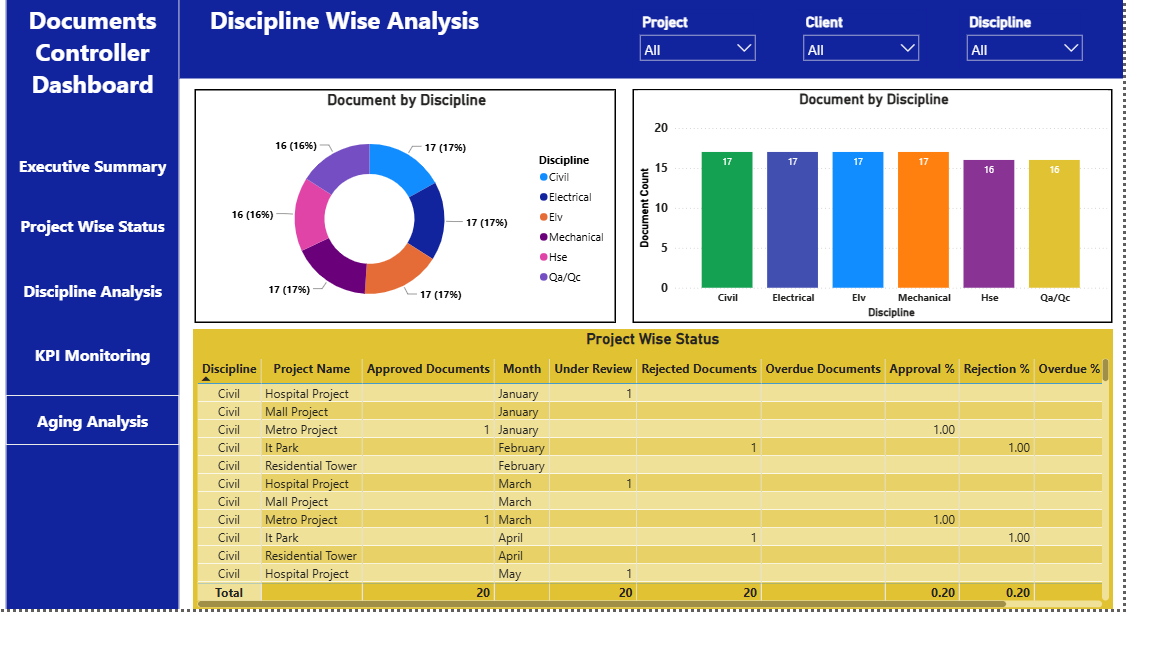

The page's visual inventory and layout, read from the dashboard file:
{"tool":"powerbi","page":{"name":"Discipline wise analysis","canvas":[1500,813],"ordinal":2},"visuals":[{"type":"group","id":"g1","title":"Group 1","box":[10,0,232,816],"z":0},{"type":"textbox","box":[10,0,232,816],"z":0,"group":"g1"},{"type":"textbox","box":[242,0,1258,106],"z":1000},{"type":"actionButton","box":[10,187.6,232,67.5],"z":1000,"group":"g1"},{"type":"slicer","fields":{"Values":["Document Register.Project Name"]},"box":[846,14,174.1,79.3],"z":2000},{"type":"actionButton","box":[10,268.2,232,67.5],"z":2000,"group":"g1"},{"type":"slicer","fields":{"Values":["Document Register.Status"]},"box":[1064,14,174.1,79.3],"z":3000},{"type":"actionButton","box":[10,354.5,232,67.5],"z":3000,"group":"g1"},{"type":"slicer","fields":{"Values":["Document Register.Discipline"]},"box":[1282,14,174.1,79.3],"z":4000},{"type":"actionButton","box":[10,440.8,232,67.5],"z":4000,"group":"g1"},{"type":"clusteredColumnChart","title":"Document by Discipline","fields":{"Category":["Document Register.Discipline"],"Y":["Document Register.Document Count"]},"box":[846,120,640,312],"z":5000},{"type":"actionButton","box":[10,527.1,232,67.5],"z":5000,"group":"g1"},{"type":"donutChart","title":"Document by Discipline","fields":{"Category":["Document Register.Discipline"],"Y":["Document Register.Document Count"]},"box":[262,120,562,312],"z":6000},{"type":"tableEx","title":"Project Wise Status","fields":{"Values":["Document Register.Discipline","Document Register.Project Name","Document Register.Approved Documents","Document Register.Submission Date.Variation.Date Hierarchy.Month","Document Register.Under Review","Document Register.Rejected Documents","Document Register.Overdue Documents","Document Register.Approval %","Document Register.Rejection %","Document Register.Overdue %","Document Register.Document-count"]},"box":[260,440,1226,376],"z":7000}]}

Visuals, with their boxes on the page's 1500x813 design canvas (x1, y1, x2, y2). These are canvas units, not pixel positions in the 1150x651 screenshot, which may show the page scaled, cropped or inside an application window:
"Group 1" group: x1=10 y1=0 x2=242 y2=816
textbox: x1=10 y1=0 x2=242 y2=816
textbox: x1=242 y1=0 x2=1500 y2=106
actionButton: x1=10 y1=188 x2=242 y2=255
slicer - Document Register.Project Name: x1=846 y1=14 x2=1020 y2=93
actionButton: x1=10 y1=268 x2=242 y2=336
slicer - Document Register.Status: x1=1064 y1=14 x2=1238 y2=93
actionButton: x1=10 y1=354 x2=242 y2=422
slicer - Document Register.Discipline: x1=1282 y1=14 x2=1456 y2=93
actionButton: x1=10 y1=441 x2=242 y2=508
"Document by Discipline" clusteredColumnChart: x1=846 y1=120 x2=1486 y2=432
actionButton: x1=10 y1=527 x2=242 y2=595
"Document by Discipline" donutChart: x1=262 y1=120 x2=824 y2=432
"Project Wise Status" tableEx: x1=260 y1=440 x2=1486 y2=816
